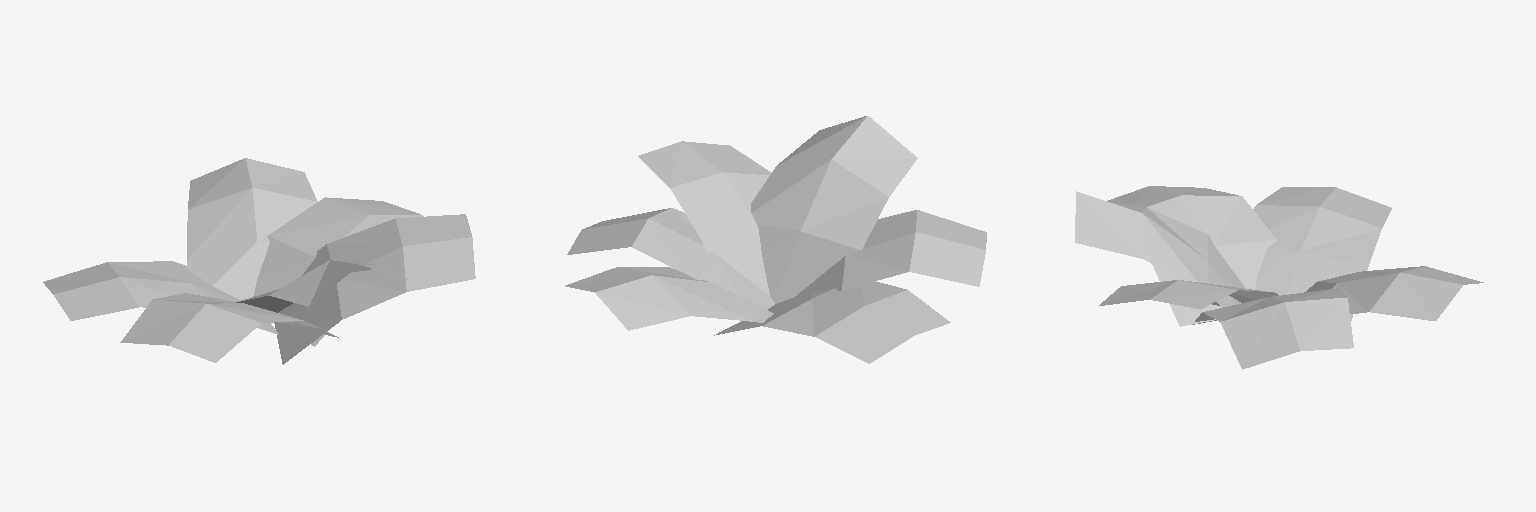
Rendered from fern_1.obj.
3 renders of one model, left to right at view 1: azimuth 30°, elevation 25°; view 2: azimuth 150°, elevation 25°; view 3: azimuth 270°, elevation 25°, orthographic.
Size of the model in its own units: 4.14 by 1.41 by 4.